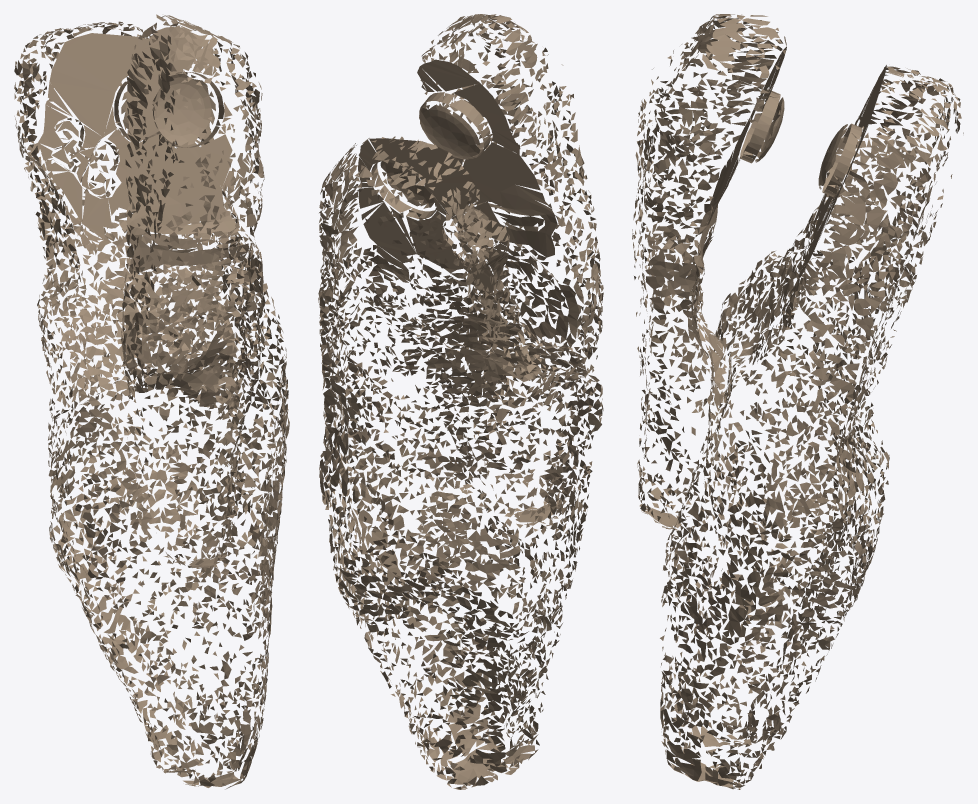
File: rocky_pata_izquierda_inferior.obj
3 renders of one model, left to right at view 1: azimuth 30°, elevation 25°; view 2: azimuth 150°, elevation 25°; view 3: azimuth 270°, elevation 25°, orthographic. The views are drawn at different scales.
Bounding box in the file's own units: 0.1221 × 0.3738 × 0.1486.
1 material, 1 textured.
